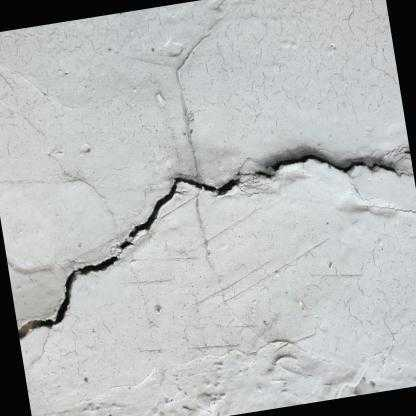crack: (16, 169, 239, 339), (254, 151, 395, 178)
